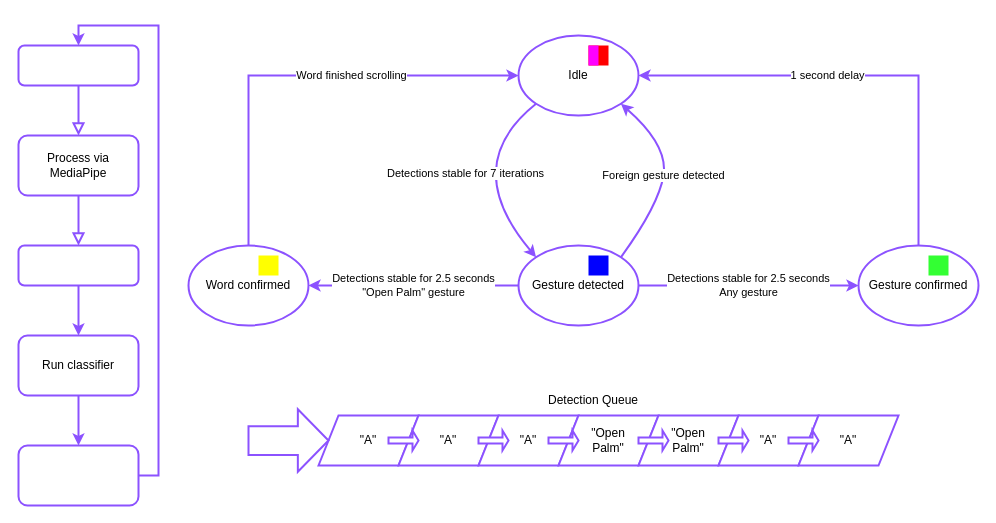
Image size: 996x523. Some labels were removed from this diagram. Each missing label, with the centre of its shape:
Extract discriminators: (x=78, y=265)
Get newest video frame: (x=78, y=65)
Latest detection: (x=288, y=440)
Update LED FSM: (x=78, y=475)
